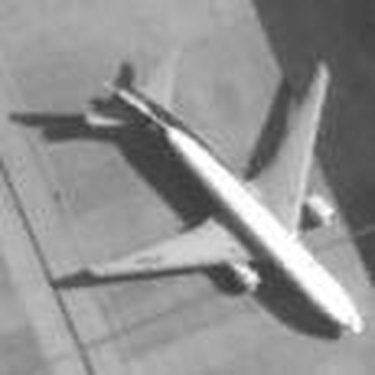airplane: (58, 29, 365, 345)
